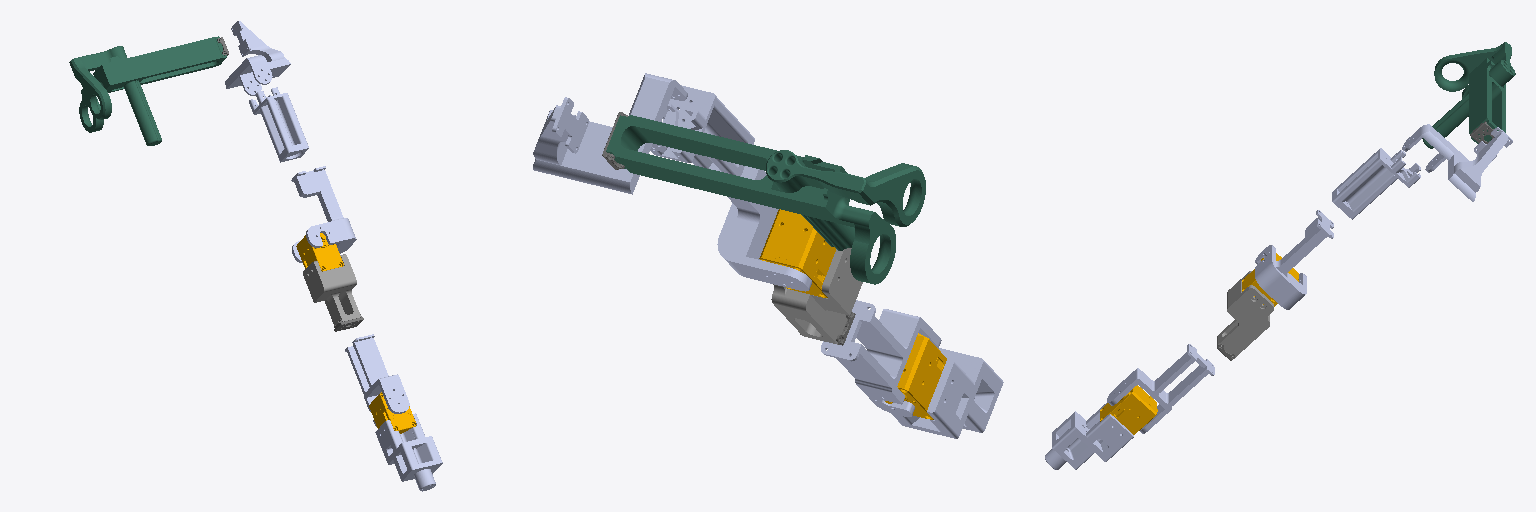
The robot description file, URDF, robot "flexiv_teleop_right_updated":
<?xml version='1.0' encoding='utf-8'?>
<robot name="flexiv_teleop_right_updated">
    <link name="world" />
    <joint name="world_to_base_link_mount_neg45_x" type="fixed">
        <parent link="world" />
        <child link="base_link" />
        <origin xyz="0 0 0" rpy="-0.785398163397448 0 0" />
    </joint>
    <link name="base_link">
        <inertial>
            <origin xyz="0.00162714534466 -0.000337390276237 -0.0191118243833" rpy="0 0 0" />
            <mass value="0.111" />
            <inertia ixx="0.000105710240322" ixy="2.93441015085e-07" ixz="-1.65189130445e-06" iyy="0.000105177728548" iyz="-1.7923343843e-07" izz="4.23598759172e-05" />
        </inertial>
        <visual>
            <origin xyz="0.0475059038513 -0.372538988375 -0.0693435954866" rpy="3.67319520414e-06 9.44309301516e-06 -3.14158530714" />
            <geometry>
                <mesh filename="meshes/base_link.stl" scale="1 1 1" />
            </geometry>
            <material name="0.647059_0.647059_0.647059_0.000000_0.000000">
                <color rgba="0.647059 0.647059 0.647059 1" />
            </material>
        </visual>
        <collision>
            <origin xyz="0.0475059038513 -0.372538988375 -0.0693435954866" rpy="3.67319520414e-06 9.44309301516e-06 -3.14158530714" />
            <geometry>
                <mesh filename="meshes/base_link.stl" scale="1 1 1" />
            </geometry>
        </collision>
        <visual>
            <origin xyz="0 -1.28562178611e-08 -0.00349999999998" rpy="1.34924357313e-11 3.67320510333e-06 1.5708" />
            <geometry>
                <mesh filename="meshes/BTS2_M2_6X8_1.stl" scale="1 1 1" />
            </geometry>
            <material name="0.768627_0.886275_0.952941_0.000000_0.000000">
                <color rgba="0.768627 0.886275 0.952941 1" />
            </material>
        </visual>
        <collision>
            <origin xyz="0 -1.28562178611e-08 -0.00349999999998" rpy="1.34924357313e-11 3.67320510333e-06 1.5708" />
            <geometry>
                <mesh filename="meshes/BTS2_M2_6X8_1.stl" scale="1 1 1" />
            </geometry>
        </collision>
    </link>
    <link name="link_1">
        <inertial>
            <origin xyz="0.000128700600234 0.0137649642433 0.0809051626206" rpy="0 0 0" />
            <mass value="0.115" />
            <inertia ixx="8.88499239897e-05" ixy="-7.59174394204e-09" ixz="-2.35583400109e-08" iyy="8.69121656279e-05" iyz="-9.29367699924e-06" izz="2.40979853064e-05" />
        </inertial>
        <visual>
            <origin xyz="0 0 0" rpy="1.57079632679 0 0" />
            <geometry>
                <mesh filename="meshes/factr_teleop_franka_l1.stl" scale="1 1 1" />
            </geometry>
            <material name="0.792157_0.819608_0.933333_0.000000_0.000000">
                <color rgba="0.792157 0.819608 0.933333 1" />
            </material>
        </visual>
        <collision>
            <origin xyz="0 0 0" rpy="1.57079632679 0 0" />
            <geometry>
                <mesh filename="meshes/factr_teleop_franka_l1.stl" scale="1 1 1" />
            </geometry>
        </collision>
        <visual>
            <origin xyz="0.000130574300607 0.0149399256995 0.105023853735" rpy="1.57079367321 -2.65358979336e-06 -3.14159265359" />
            <geometry>
                <mesh filename="meshes/DC12_A01_SPACER_RING_1.stl" scale="1 1 1" />
            </geometry>
            <material name="0.980392_0.713725_0.003922_0.000000_0.000000">
                <color rgba="0.980392 0.713726 0.00392157 1" />
            </material>
        </visual>
        <collision>
            <origin xyz="0.000130574300607 0.0149399256995 0.105023853735" rpy="1.57079367321 -2.65358979336e-06 -3.14159265359" />
            <geometry>
                <mesh filename="meshes/DC12_A01_SPACER_RING_1.stl" scale="1 1 1" />
            </geometry>
        </collision>
    </link>
    <link name="link_2">
        <inertial>
            <origin xyz="0.00793675562415 -0.000109251783809 0.0666223895078" rpy="0 0 0" />
            <mass value="0.04" />
            <inertia ixx="4.83185929342e-05" ixy="2.81678479977e-08" ixz="-5.48734234067e-06" iyy="5.35587477865e-05" iyz="-3.98475379423e-08" izz="8.23422448459e-06" />
        </inertial>
        <visual>
            <origin xyz="0 0 -0.01125" rpy="1.57079632679 0 0" />
            <geometry>
                <mesh filename="meshes/factr_teleop_franka_l2.stl" scale="1 1 1" />
            </geometry>
            <material name="0.792157_0.819608_0.933333_0.000000_0.000000">
                <color rgba="0.792157 0.819608 0.933333 1" />
            </material>
        </visual>
        <collision>
            <origin xyz="0 0 -0.01125" rpy="1.57079632679 0 0" />
            <geometry>
                <mesh filename="meshes/factr_teleop_franka_l2.stl" scale="1 1 1" />
            </geometry>
        </collision>
        <visual>
            <origin xyz="0.0175578801175 -0.000114968372554 0.0989869629671" rpy="1.01961531023e-06 -3.67320510335e-06 -1.5707963268" />
            <geometry>
                <mesh filename="meshes/BTS2_M2_6X8_1.stl" scale="1 1 1" />
            </geometry>
            <material name="0.768627_0.886275_0.952941_0.000000_0.000000">
                <color rgba="0.768627 0.886275 0.952941 1" />
            </material>
        </visual>
        <collision>
            <origin xyz="0.0175578801175 -0.000114968372554 0.0989869629671" rpy="1.01961531023e-06 -3.67320510335e-06 -1.5707963268" />
            <geometry>
                <mesh filename="meshes/BTS2_M2_6X8_1.stl" scale="1 1 1" />
            </geometry>
        </collision>
    </link>
    <link name="link_3">
        <inertial>
            <origin xyz="-0.0139127681942 0.00853073534475 0.0729507412844" rpy="0 0 0" />
            <mass value="0.109" />
            <inertia ixx="7.10135399594e-05" ixy="1.11053625207e-06" ixz="8.20244545875e-06" iyy="7.61801750484e-05" iyz="-6.0800450212e-06" izz="2.12507476384e-05" />
        </inertial>
        <visual>
            <origin xyz="0 0 0.003" rpy="-1.57079632679 0 3.14159265359" />
            <geometry>
                <mesh filename="meshes/DC15_A01_ADAPTOR_1.stl" scale="1 1 1" />
            </geometry>
            <material name="0.498039_0.498039_0.498039_0.000000_0.000000">
                <color rgba="0.498039 0.498039 0.498039 1" />
            </material>
        </visual>
        <collision>
            <origin xyz="0 0 0.003" rpy="-1.57079632679 0 3.14159265359" />
            <geometry>
                <mesh filename="meshes/DC15_A01_ADAPTOR_1.stl" scale="1 1 1" />
            </geometry>
        </collision>
        <visual>
            <origin xyz="-0.00910522390268 0.00971465 0.0336771453903" rpy="1.57079632679 2.65358979336e-06 0" />
            <geometry>
                <mesh filename="meshes/link_3.stl" scale="1 1 1" />
            </geometry>
            <material name="0.647059_0.647059_0.647059_0.000000_0.000000">
                <color rgba="0.647059 0.647059 0.647059 1" />
            </material>
        </visual>
        <collision>
            <origin xyz="-0.00910522390268 0.00971465 0.0336771453903" rpy="1.57079632679 2.65358979336e-06 0" />
            <geometry>
                <mesh filename="meshes/link_3.stl" scale="1 1 1" />
            </geometry>
        </collision>
        <visual>
            <origin xyz="-0.0151381215479 0.0100131220393 0.0919747613994" rpy="1.57079367321 -9.74717957251e-12 -1.5708" />
            <geometry>
                <mesh filename="meshes/DC12_A01_SPACER_RING_1.stl" scale="1 1 1" />
            </geometry>
            <material name="0.980392_0.713725_0.003922_0.000000_0.000000">
                <color rgba="0.980392 0.713726 0.00392157 1" />
            </material>
        </visual>
        <collision>
            <origin xyz="-0.0151381215479 0.0100131220393 0.0919747613994" rpy="1.57079367321 -9.74717957251e-12 -1.5708" />
            <geometry>
                <mesh filename="meshes/DC12_A01_SPACER_RING_1.stl" scale="1 1 1" />
            </geometry>
        </collision>
    </link>
    <link name="link_4">
        <inertial>
            <origin xyz="-0.0454128245752 0.0071259953009 -0.0197177142857" rpy="0 0 0" />
            <mass value="0.056" />
            <inertia ixx="3.41479346031e-05" ixy="7.88080631863e-06" ixz="3.67992730287e-06" iyy="9.87498020868e-05" iyz="4.0273135794e-06" izz="8.14047903308e-05" />
        </inertial>
        <visual>
            <origin xyz="0 0 -0.044" rpy="-1.57079632679 -1.57079265342 3.14159265359" />
            <geometry>
                <mesh filename="meshes/factr_teleop_franka_l4.stl" scale="1 1 1" />
            </geometry>
            <material name="0.792157_0.819608_0.933333_0.000000_0.000000">
                <color rgba="0.792157 0.819608 0.933333 1" />
            </material>
        </visual>
        <collision>
            <origin xyz="0 0 -0.044" rpy="-1.57079632679 -1.57079265342 3.14159265359" />
            <geometry>
                <mesh filename="meshes/factr_teleop_franka_l4.stl" scale="1 1 1" />
            </geometry>
        </collision>
        <visual>
            <origin xyz="-0.0939849293855 0.0120735716276 -0.0093792" rpy="1.57079632679 0 -1.5708" />
            <geometry>
                <mesh filename="meshes/BTS2_M2_6X8_1.stl" scale="1 1 1" />
            </geometry>
            <material name="0.768627_0.886275_0.952941_0.000000_0.000000">
                <color rgba="0.768627 0.886275 0.952941 1" />
            </material>
        </visual>
        <collision>
            <origin xyz="-0.0939849293855 0.0120735716276 -0.0093792" rpy="1.57079632679 0 -1.5708" />
            <geometry>
                <mesh filename="meshes/BTS2_M2_6X8_1.stl" scale="1 1 1" />
            </geometry>
        </collision>
    </link>
    <link name="link_5">
        <inertial>
            <origin xyz="-0.00892100027515 -0.0649143670541 -0.00041500110174" rpy="0 0 0" />
            <mass value="0.042" />
            <inertia ixx="4.02038052197e-05" ixy="-7.74076988776e-06" ixz="-9.52443813495e-08" iyy="6.68054906974e-06" iyz="-3.55627738033e-07" izz="4.31008058781e-05" />
        </inertial>
        <visual>
            <origin xyz="0 -0.006 0" rpy="1.57079632679 0 0" />
            <geometry>
                <mesh filename="meshes/factr_teleop_franka_l5.stl" scale="1 1 1" />
            </geometry>
            <material name="0.792157_0.819608_0.933333_0.000000_0.000000">
                <color rgba="0.792157 0.819608 0.933333 1" />
            </material>
        </visual>
        <collision>
            <origin xyz="0 -0.006 0" rpy="1.57079632679 0 0" />
            <geometry>
                <mesh filename="meshes/factr_teleop_franka_l5.stl" scale="1 1 1" />
            </geometry>
        </collision>
        <visual>
            <origin xyz="-0.00721123673848 -0.0949280128561 -0.000667242855968" rpy="3.67338645272e-06 -1.57079265348 3.14159265341" />
            <geometry>
                <mesh filename="meshes/BTS2_M2_6X8_1.stl" scale="1 1 1" />
            </geometry>
            <material name="0.768627_0.886275_0.952941_0.000000_0.000000">
                <color rgba="0.768627 0.886275 0.952941 1" />
            </material>
        </visual>
        <collision>
            <origin xyz="-0.00721123673848 -0.0949280128561 -0.000667242855968" rpy="3.67338645272e-06 -1.57079265348 3.14159265341" />
            <geometry>
                <mesh filename="meshes/BTS2_M2_6X8_1.stl" scale="1 1 1" />
            </geometry>
        </collision>
    </link>
    <link name="link_6">
        <inertial>
            <origin xyz="-0.0445141776772 -0.0327477626772 -0.013926737732" rpy="0 0 0" />
            <mass value="0.046" />
            <inertia ixx="2.05790641204e-05" ixy="-5.43723089179e-06" ixz="3.85437066825e-06" iyy="3.40402733653e-05" iyz="-2.44488303018e-06" izz="3.03376134652e-05" />
        </inertial>
        <visual>
            <origin xyz="-0.059 0 0" rpy="1.57079632679 0 0" />
            <geometry>
                <mesh filename="meshes/factr_teleop_franka_l6.stl" scale="1 1 1" />
            </geometry>
            <material name="0.792157_0.819608_0.933333_0.000000_0.000000">
                <color rgba="0.792157 0.819608 0.933333 1" />
            </material>
        </visual>
        <collision>
            <origin xyz="-0.059 0 0" rpy="1.57079632679 0 0" />
            <geometry>
                <mesh filename="meshes/factr_teleop_franka_l6.stl" scale="1 1 1" />
            </geometry>
        </collision>
        <visual>
            <origin xyz="-0.0546971283726 -0.0367701283726 0.00106109816313" rpy="-3.67320510338e-06 -3.67320510333e-06 -1.57079632678" />
            <geometry>
                <mesh filename="meshes/BTS2_M2_6X8_1.stl" scale="1 1 1" />
            </geometry>
            <material name="0.768627_0.886275_0.952941_0.000000_0.000000">
                <color rgba="0.768627 0.886275 0.952941 1" />
            </material>
        </visual>
        <collision>
            <origin xyz="-0.0546971283726 -0.0367701283726 0.00106109816313" rpy="-3.67320510338e-06 -3.67320510333e-06 -1.57079632678" />
            <geometry>
                <mesh filename="meshes/BTS2_M2_6X8_1.stl" scale="1 1 1" />
            </geometry>
        </collision>
    </link>
    <link name="link_7">
        <inertial>
            <origin xyz="0.000332186541394 0.00664730844923 -0.111340491762" rpy="0 0 0" />
            <mass value="0.081" />
            <inertia ixx="0.000213069276163" ixy="-1.22121334213e-07" ixz="1.78425619989e-06" iyy="0.000183815440224" iyz="1.11761375972e-05" izz="4.43947402873e-05" />
        </inertial>
        <visual>
            <origin xyz="0 0 -0.003" rpy="1.57079632679 0 -1.57079632679" />
            <geometry>
                <mesh filename="meshes/DC15_A01_ADAPTOR_1.stl" scale="1 1 1" />
            </geometry>
            <material name="0.498039_0.498039_0.498039_0.000000_0.000000">
                <color rgba="0.498039 0.498039 0.498039 1" />
            </material>
        </visual>
        <collision>
            <origin xyz="0 0 -0.003" rpy="1.57079632679 0 -1.57079632679" />
            <geometry>
                <mesh filename="meshes/DC15_A01_ADAPTOR_1.stl" scale="1 1 1" />
            </geometry>
        </collision>
        <visual>
            <origin xyz="-0.0470004510693 -0.1147998696 -0.10155" rpy="1.57079632679 0 3.14158898038" />
            <geometry>
                <mesh filename="meshes/handle_left.stl" scale="1 1 1" />
            </geometry>
            <material name="0.266667_0.466667_0.400000_0.000000_0.000000">
                <color rgba="0.266667 0.466667 0.4 1" />
            </material>
        </visual>
        <collision>
            <origin xyz="-0.0470004510693 -0.1147998696 -0.10155" rpy="1.57079632679 0 3.14158898038" />
            <geometry>
                <mesh filename="meshes/handle_left.stl" scale="1 1 1" />
            </geometry>
        </collision>
        <visual>
            <origin xyz="-0.0470004304338 -0.114599889502 -0.101549917739" rpy="1.57079632679 0 3.14158898038" />
            <geometry>
                <mesh filename="meshes/gripper_left.stl" scale="1 1 1" />
            </geometry>
            <material name="0.266667_0.466667_0.400000_0.000000_0.000000">
                <color rgba="0.266667 0.466667 0.4 1" />
            </material>
        </visual>
        <collision>
            <origin xyz="-0.0470004304338 -0.114599889502 -0.101549917739" rpy="1.57079632679 0 3.14158898038" />
            <geometry>
                <mesh filename="meshes/gripper_left.stl" scale="1 1 1" />
            </geometry>
        </collision>
        <visual>
            <origin xyz="-4.25428794588e-08 -0.00900006214367 -0.121699927026" rpy="1.57079367321 -2.65358979336e-06 -3.67320510341e-06" />
            <geometry>
                <mesh filename="meshes/BTS2_M2_6X8_1.stl" scale="1 1 1" />
            </geometry>
            <material name="0.768627_0.886275_0.952941_0.000000_0.000000">
                <color rgba="0.768627 0.886275 0.952941 1" />
            </material>
        </visual>
        <collision>
            <origin xyz="-4.25428794588e-08 -0.00900006214367 -0.121699927026" rpy="1.57079367321 -2.65358979336e-06 -3.67320510341e-06" />
            <geometry>
                <mesh filename="meshes/BTS2_M2_6X8_1.stl" scale="1 1 1" />
            </geometry>
        </collision>
    </link>
    <joint name="joint_1" type="revolute">
        <parent link="base_link" />
        <child link="link_1" />
        <origin xyz="0 0 0" rpy="0 0 0" />
        <axis xyz="0 0 1" />
        <limit lower="-3.14159" upper="3.14159" effort="1" velocity="1" />
    </joint>
    <joint name="joint_2" type="revolute">
        <parent link="link_1" />
        <child link="link_2" />
        <origin xyz="0.000130574300606631 0.0149399256994647 0.105023853734996" rpy="0 0 1.5707963267949" />
        <axis xyz="1 0 0" />
        <limit lower="-3.14159" upper="3.14159" effort="1" velocity="1" />
    </joint>
    <joint name="joint_3" type="revolute">
        <parent link="link_2" />
        <child link="link_3" />
        <origin xyz="0.0175578765488817 -0.000114955516336591 0.102486962967077" rpy="0 0 0" />
        <axis xyz="0 0 1" />
        <limit lower="-3.14159" upper="3.14159" effort="1" velocity="1" />
    </joint>
    <joint name="joint_4" type="revolute">
        <parent link="link_3" />
        <child link="link_4" />
        <origin xyz="-0.0151351676567868 0.00984254203913448 0.0949747" rpy="0 1.5707963267949 1.5707963267949" />
        <axis xyz="0 1 0" />
        <limit lower="-3.14159" upper="3.14159" effort="1" velocity="1" />
    </joint>
    <joint name="joint_5" type="revolute">
        <parent link="link_4" />
        <child link="link_5" />
        <origin xyz="-0.0974849293854855 0.0120735844837713 -0.00937919999999989" rpy="-3.14159265358979 0 1.5707963267949" />
        <axis xyz="0 -1 0" />
        <limit lower="-3.14159" upper="3.14159" effort="1" velocity="1" />
    </joint>
    <joint name="joint_6" type="revolute">
        <parent link="link_5" />
        <child link="link_6" />
        <origin xyz="-0.0154612367383675 -0.0949280431600081 -0.000667273159910339" rpy="-3.14159265358979 0 1.5707963267949" />
        <axis xyz="0 -1 0" />
        <limit lower="-3.14159" upper="3.14159" effort="1" velocity="1" />
    </joint>
    <joint name="joint_7" type="revolute">
        <parent link="link_6" />
        <child link="link_7" />
        <origin xyz="-0.0546971044967246 -0.0367701044967213 0.00756109816304664" rpy="-3.14159265358979 0 1.5707963267949" />
        <axis xyz="0 0 -1" />
        <limit lower="-3.14159" upper="3.14159" effort="1" velocity="1" />
    </joint>
</robot>

--- Render facts (derived) ---
Views: 3 orthographic renders of the robot side by side, from view 1: azimuth 30°, elevation 25°; view 2: azimuth 150°, elevation 25°; view 3: azimuth 270°, elevation 25°.
Model flexiv_teleop_right_updated with 9 links and 8 joints (7 revolute, 1 fixed), rooted at world, posed all joints at 0.
Visible links, largest first — view 1: link_7, link_1, link_3, link_4, link_2, link_6, link_5; view 2: link_7, link_3, link_1, link_6, link_2, link_4, link_5; view 3: link_7, link_1, link_3, link_4, link_5, link_6, link_2.
Boxes of the visible links, left/top/right/bottom form: link_7: left=69, top=36, right=228, bottom=145; link_1: left=369, top=392, right=442, bottom=491; link_3: left=296, top=233, right=363, bottom=331; link_4: left=291, top=166, right=356, bottom=262; link_2: left=345, top=334, right=409, bottom=426; link_6: left=225, top=21, right=290, bottom=95; link_5: left=249, top=87, right=308, bottom=162; link_7: left=602, top=112, right=925, bottom=284; link_3: left=759, top=209, right=862, bottom=345; link_1: left=885, top=333, right=1003, bottom=438; link_6: left=533, top=73, right=687, bottom=194; link_2: left=821, top=300, right=941, bottom=416; link_4: left=717, top=166, right=811, bottom=291; link_5: left=650, top=85, right=754, bottom=176; link_7: left=1422, top=42, right=1515, bottom=148; link_1: left=1045, top=385, right=1157, bottom=469; link_3: left=1217, top=253, right=1298, bottom=360; link_4: left=1255, top=210, right=1333, bottom=309; link_5: left=1332, top=148, right=1420, bottom=219; link_6: left=1402, top=124, right=1512, bottom=201; link_2: left=1107, top=344, right=1214, bottom=433.
Size in the robot's own frame: 0.2402 by 0.4629 by 0.3815 metres.
12 mesh visuals loaded from 12 distinct referenced files (10 binary STL); not drawn: 7 (reference not matched to a file when rendering).
